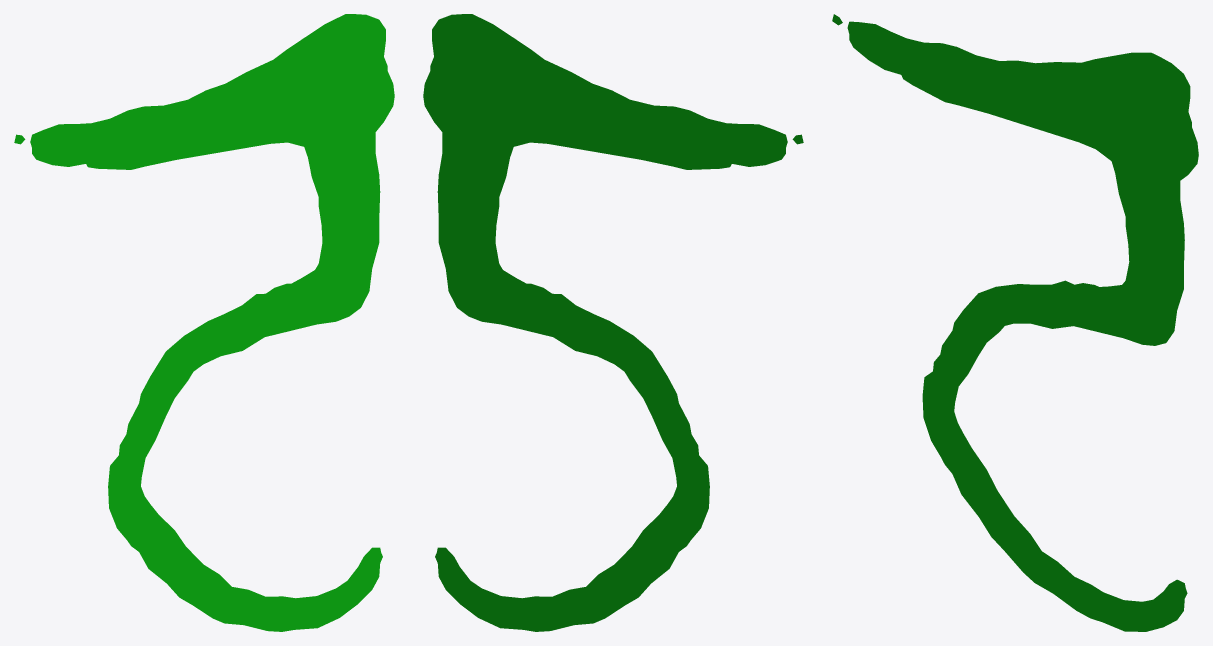
The model's file is hsfive.obj.
The picture shows the model from 3 angles, left to right: view 1: azimuth 30°, elevation 25°; view 2: azimuth 150°, elevation 25°; view 3: azimuth 330°, elevation 25°; orthographic projection. The views are drawn at different scales.
Visible parts, largest first — view 1: hsfive.008; view 2: hsfive.008; view 3: hsfive.008.
Boxes of the visible parts, x1=… form: hsfive.008: x1=14, y1=14, x2=394, y2=631; hsfive.008: x1=423, y1=14, x2=803, y2=631; hsfive.008: x1=832, y1=14, x2=1198, y2=631.
Bounding box in the file's own units: 0.3432 × 0.5235 × 0.
